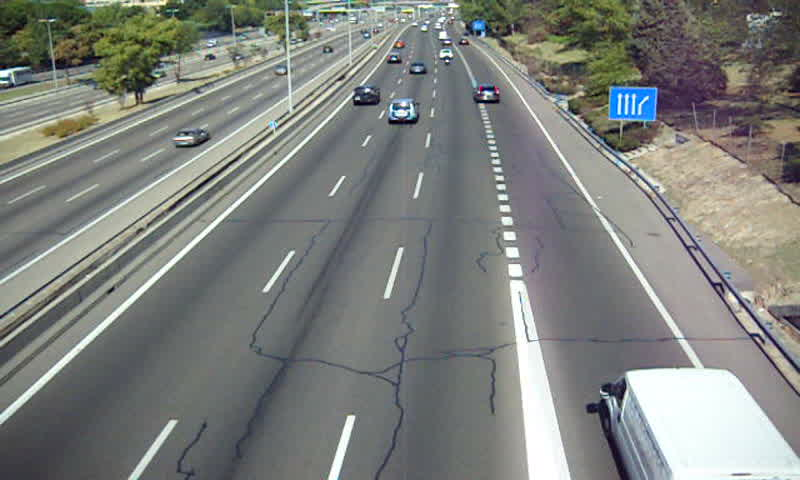car: (386, 98, 421, 123), (353, 85, 381, 106), (474, 84, 502, 104), (408, 62, 428, 76)
van: (602, 368, 800, 480)
